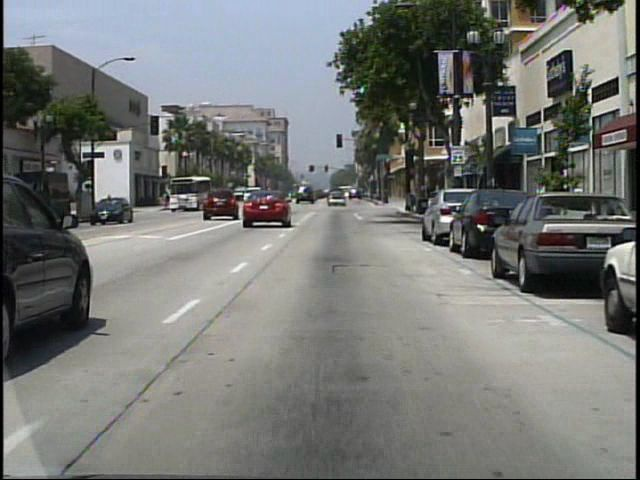person: (107, 194, 115, 216)
